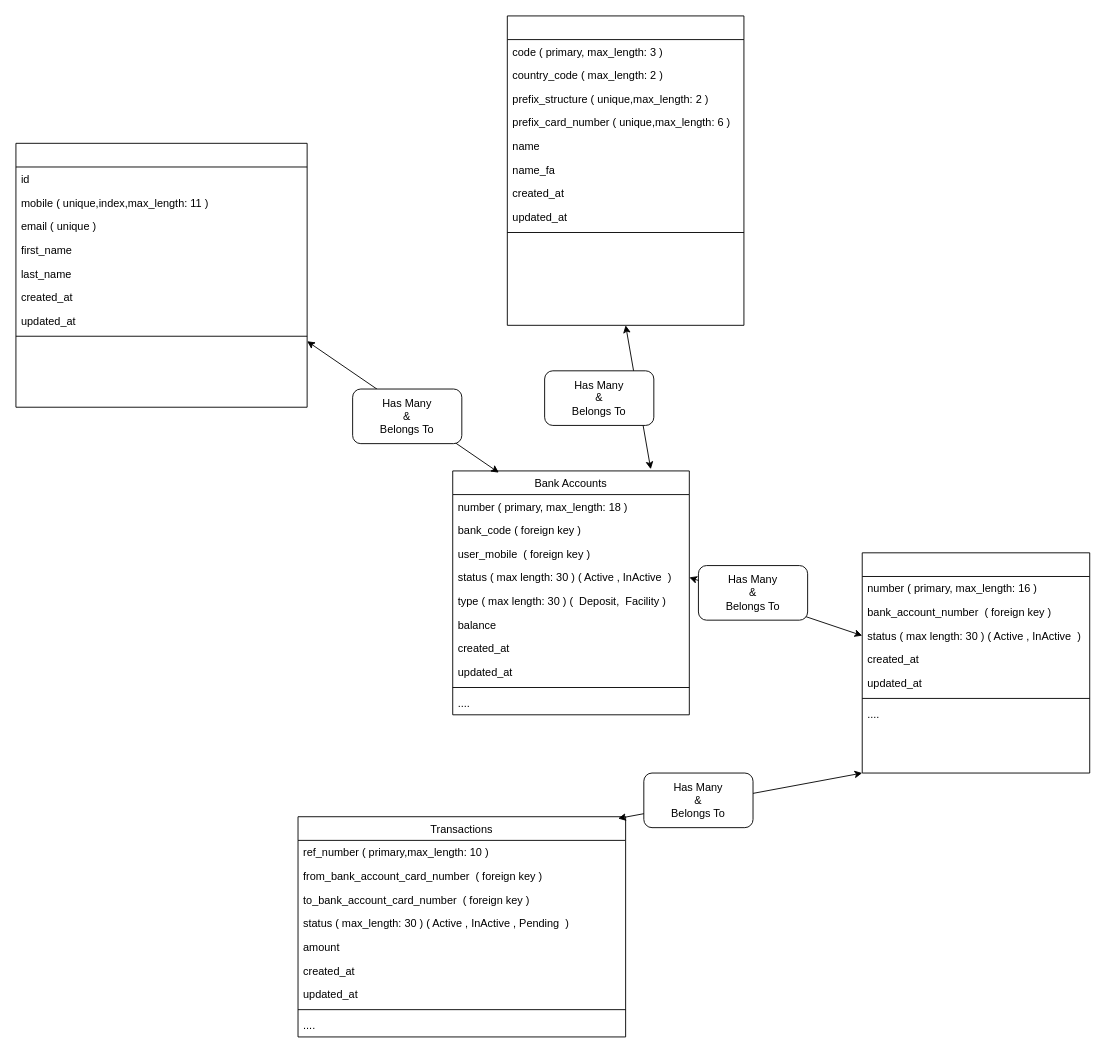
Some shapes in this 1106 by 1056 pixel diagram are drawn without their labels. Here are the shapes that lost their labels. From the top down, the box of each, then its label:
(506, 15, 744, 325): Banks
(15, 142, 307, 407): Users
(861, 552, 1090, 773): Bank Account Cards
